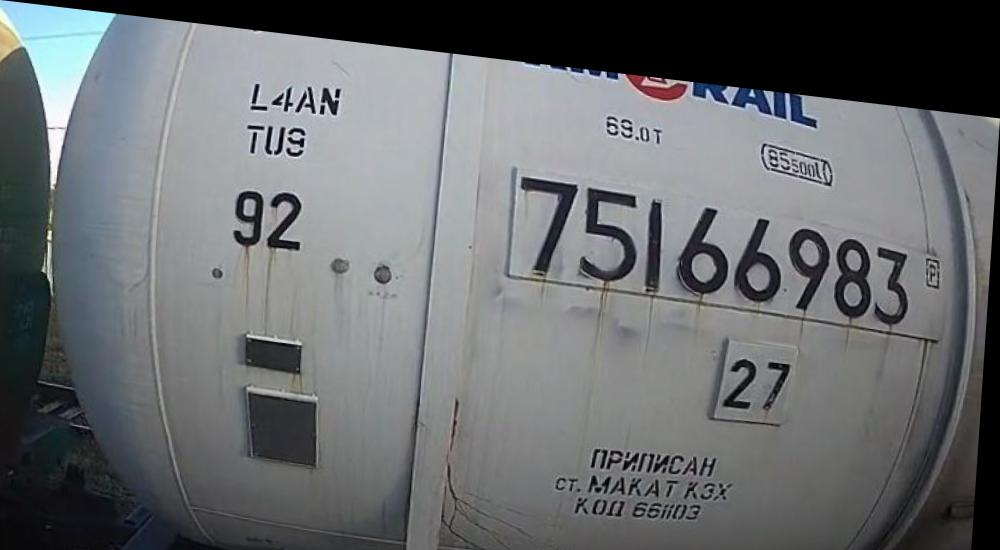Wagon-number: (512, 157, 919, 313)
